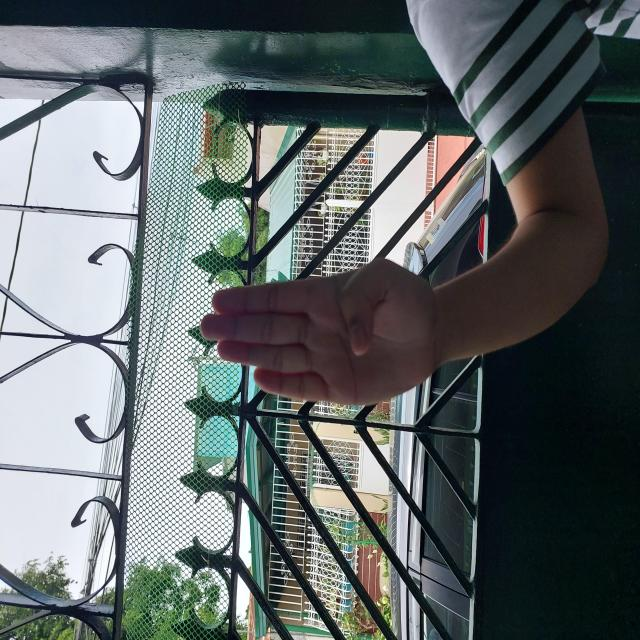B: (232, 195, 387, 441)
